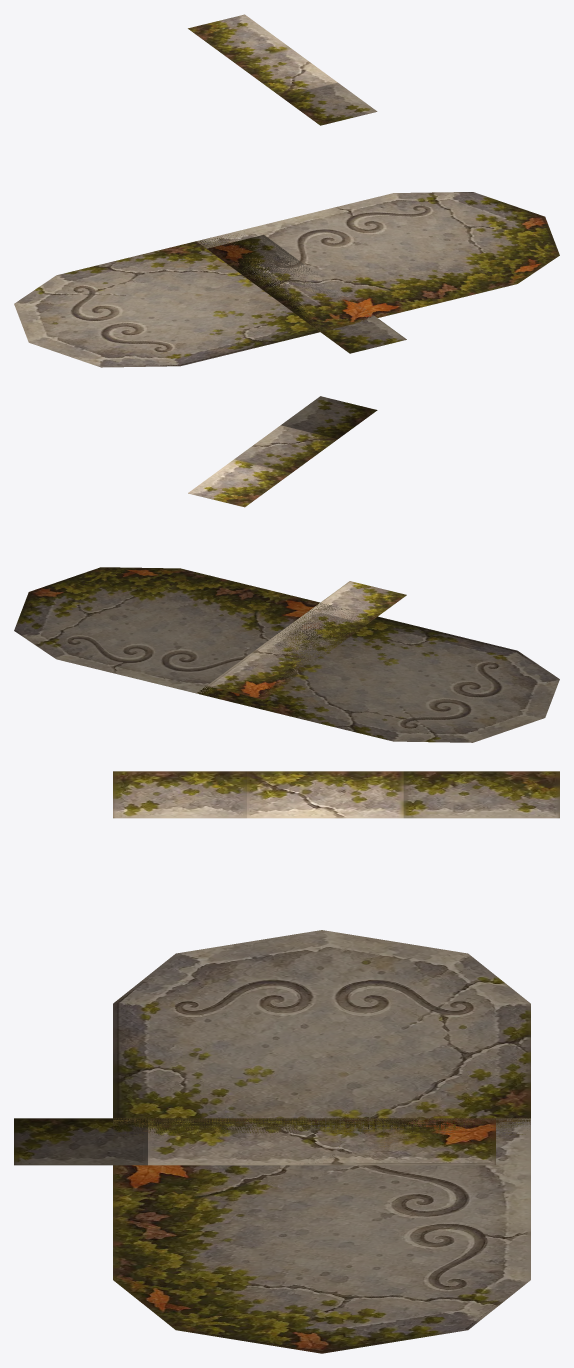
Rendered from tombstone_fold.glb.
3 views of the same model, one above another, from view 1: azimuth 30°, elevation 25°; view 2: azimuth 150°, elevation 25°; view 3: azimuth 270°, elevation 25° (orthographic). The views are drawn at different scales.
Visible parts, largest first — view 1: GEO-tombstone; view 2: GEO-tombstone; view 3: GEO-tombstone.
Boxes of the visible parts, x1,y1,x2,y2 form: GEO-tombstone: [14, 14, 559, 367]; GEO-tombstone: [14, 396, 559, 742]; GEO-tombstone: [14, 771, 559, 1353].
Size of the model in its own units: 1.44 by 0.55 by 0.7842.
1 material, 1 textured.
